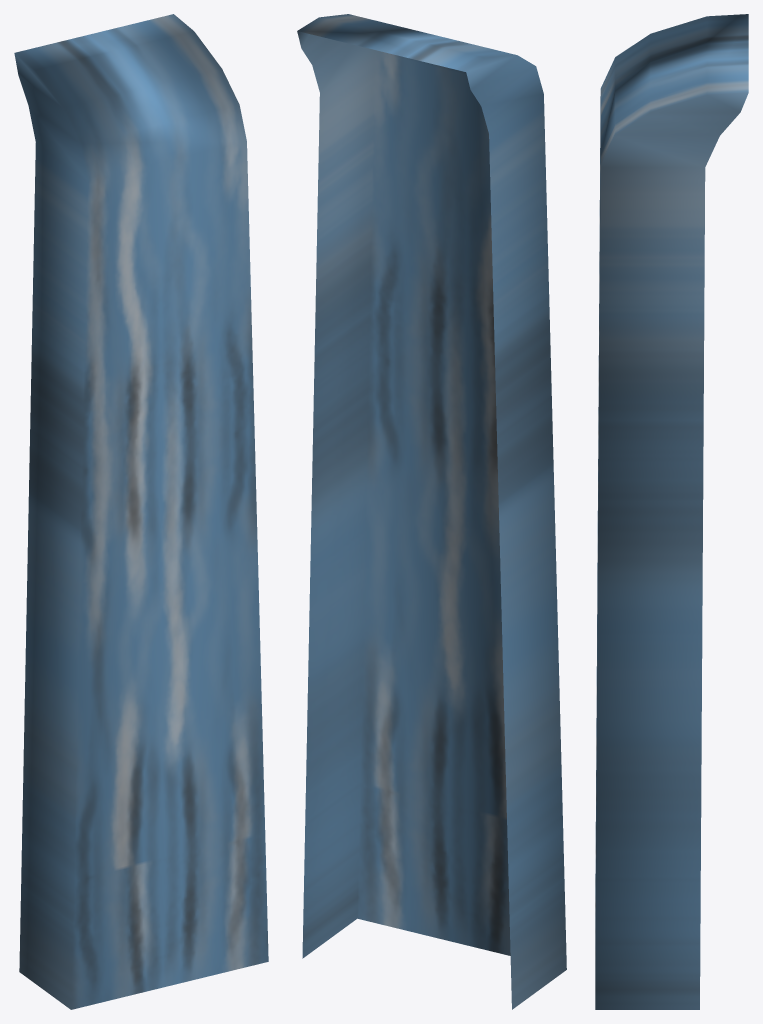
Rendered from wFallMesh.fbx.
3 renders of one model, left to right at view 1: azimuth 30°, elevation 25°; view 2: azimuth 150°, elevation 25°; view 3: azimuth 270°, elevation 25°, orthographic. The views are drawn at different scales.
Visible parts, largest first — view 1: Cube; view 2: Cube; view 3: Cube.
Boxes of the visible parts, x1,y1,x2,y2 form: Cube: [14, 14, 268, 1009]; Cube: [297, 14, 566, 1009]; Cube: [595, 14, 748, 1009].
Size of the model in its own units: 248 by 1075 by 165.
